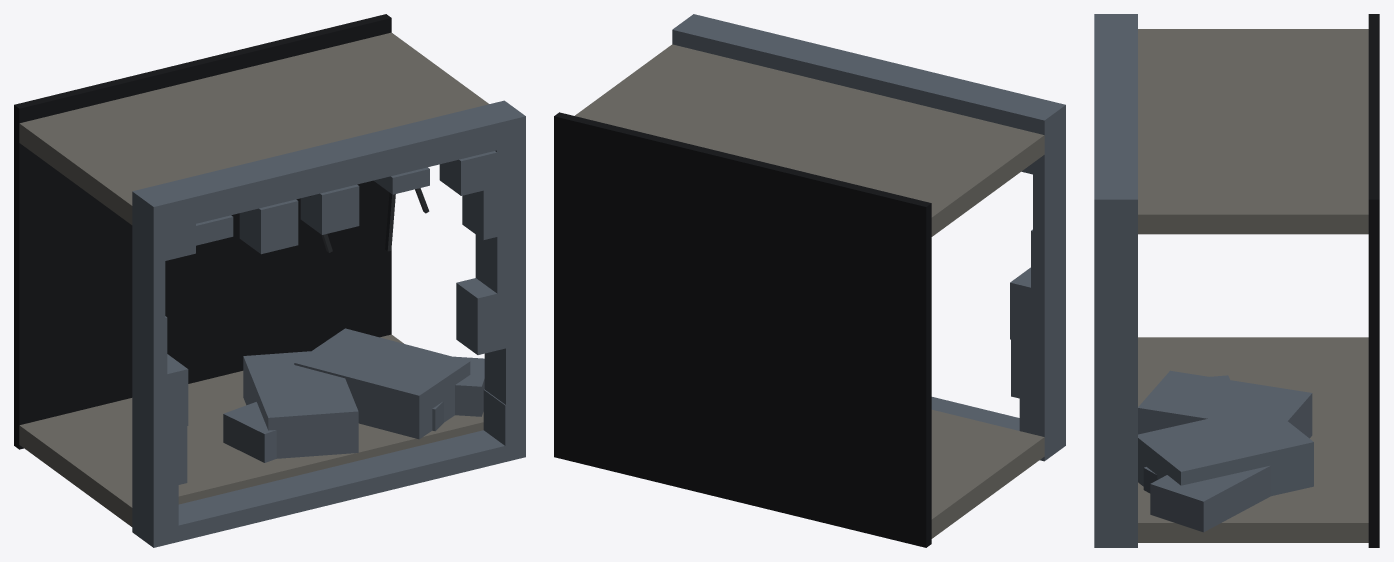
The model's file is cg_hole.glb.
3 views of the same model, side by side, from view 1: azimuth 30°, elevation 25°; view 2: azimuth 150°, elevation 25°; view 3: azimuth 270°, elevation 25° (orthographic). The views are drawn at different scales.
Visible parts, largest first — view 1: city_cg_hole; view 2: city_cg_hole; view 3: city_cg_hole.
Boxes of the visible parts, <box> form: city_cg_hole: <box>14,14,525,547</box>; city_cg_hole: <box>554,14,1065,547</box>; city_cg_hole: <box>1094,14,1379,547</box>.
Size of the model in its own units: 4.2 by 3.5 by 2.6.
2 materials, 2 textured.
